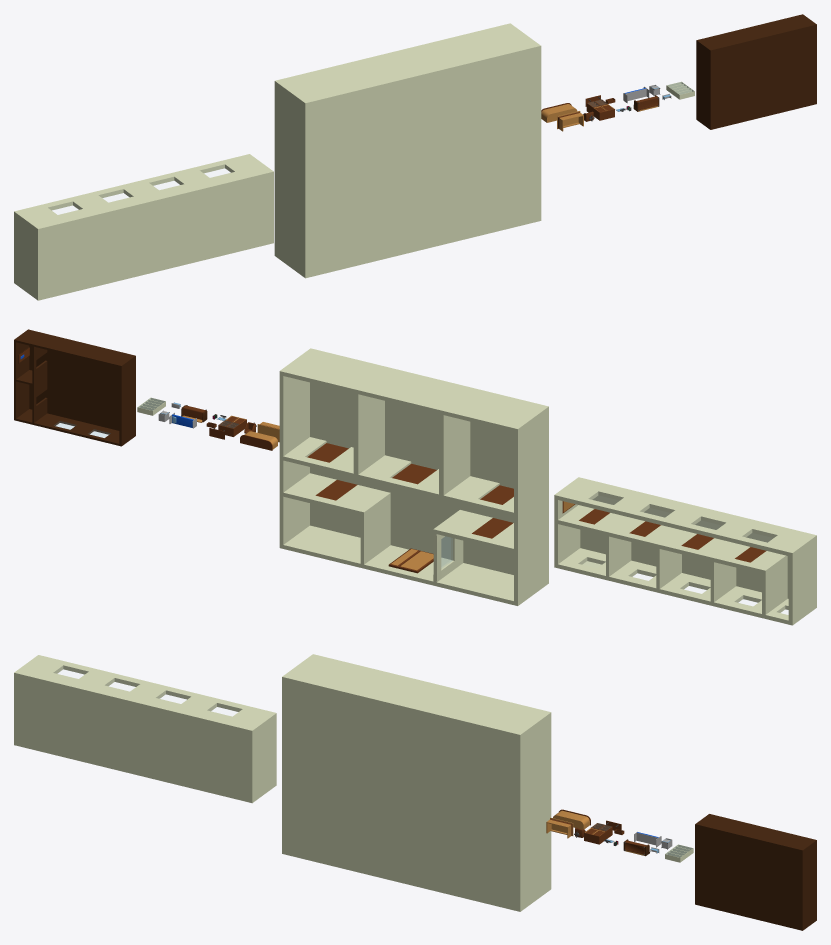
Rendered from Rooms.fbx.
3 views of the same model, one above another, from view 1: azimuth 30°, elevation 25°; view 2: azimuth 150°, elevation 25°; view 3: azimuth 330°, elevation 25° (orthographic).
Parts seen in each view (by area): view 1: OfisWalls, HospitalRooms, HousePlayer; view 2: OfisWalls, HospitalRooms, HousePlayer; view 3: OfisWalls, HospitalRooms, HousePlayer.
Boxes of the visible parts, left/top/right/bottom form: OfisWalls: left=274, top=23, right=541, bottom=278; HospitalRooms: left=14, top=154, right=273, bottom=300; HousePlayer: left=696, top=14, right=816, bottom=129; OfisWalls: left=279, top=348, right=548, bottom=605; HospitalRooms: left=554, top=477, right=816, bottom=625; HousePlayer: left=14, top=329, right=135, bottom=446; OfisWalls: left=282, top=654, right=551, bottom=911; HospitalRooms: left=14, top=655, right=276, bottom=803; HousePlayer: left=695, top=814, right=816, bottom=930.
Bounding box in the file's own units: 20500 × 4400 × 1400.
